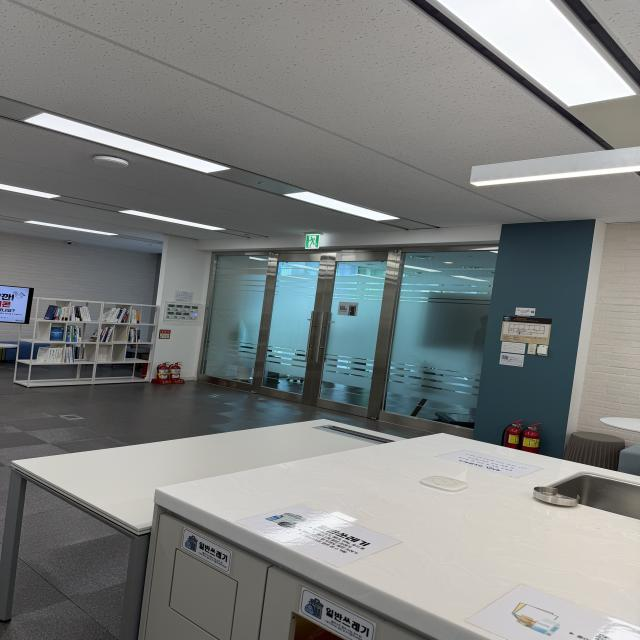front_door: (197, 242, 497, 438)
